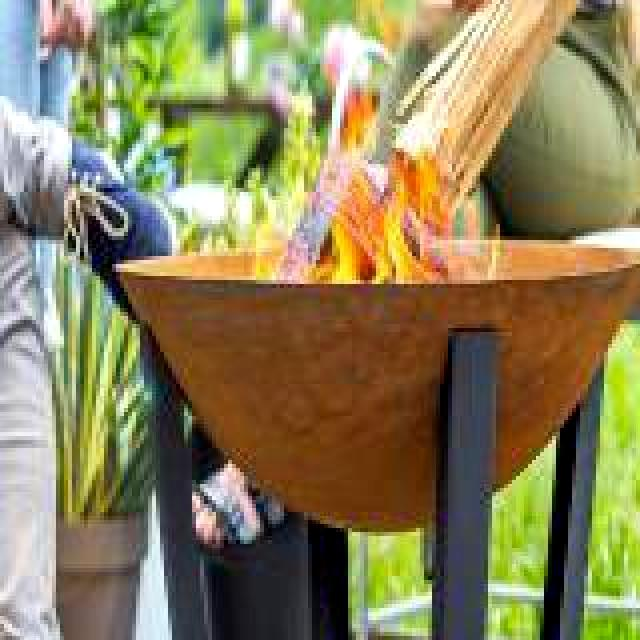fire: (244, 96, 440, 324)
